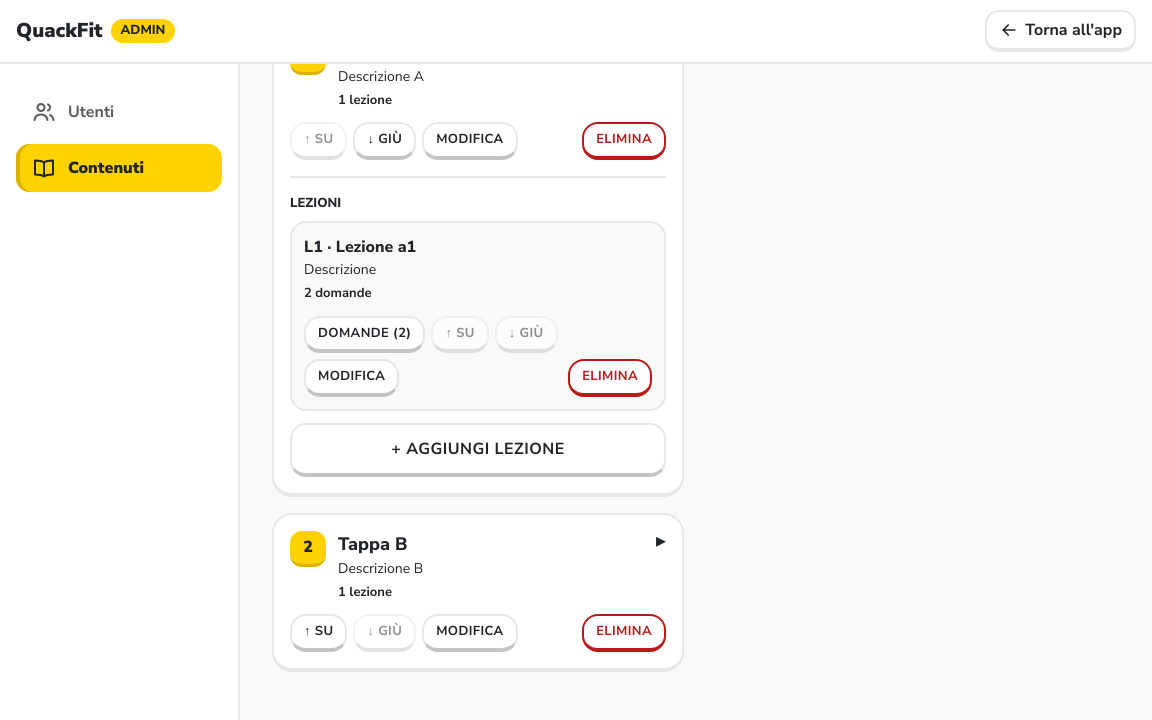
accordion delle tappe › all'avvio è aperta la prima; aprirne un'altra chiude la precedente
(page scrolled)
Expected: the text "L1 · Lezione a1" is shown, [304,236,416,258]
Expected: the text "L1 · Lezione b1" is not shown
Click the button "2 Tappa B Descrizione B 1 lezione ▸" at [308, 549], box [290,531,666,602]
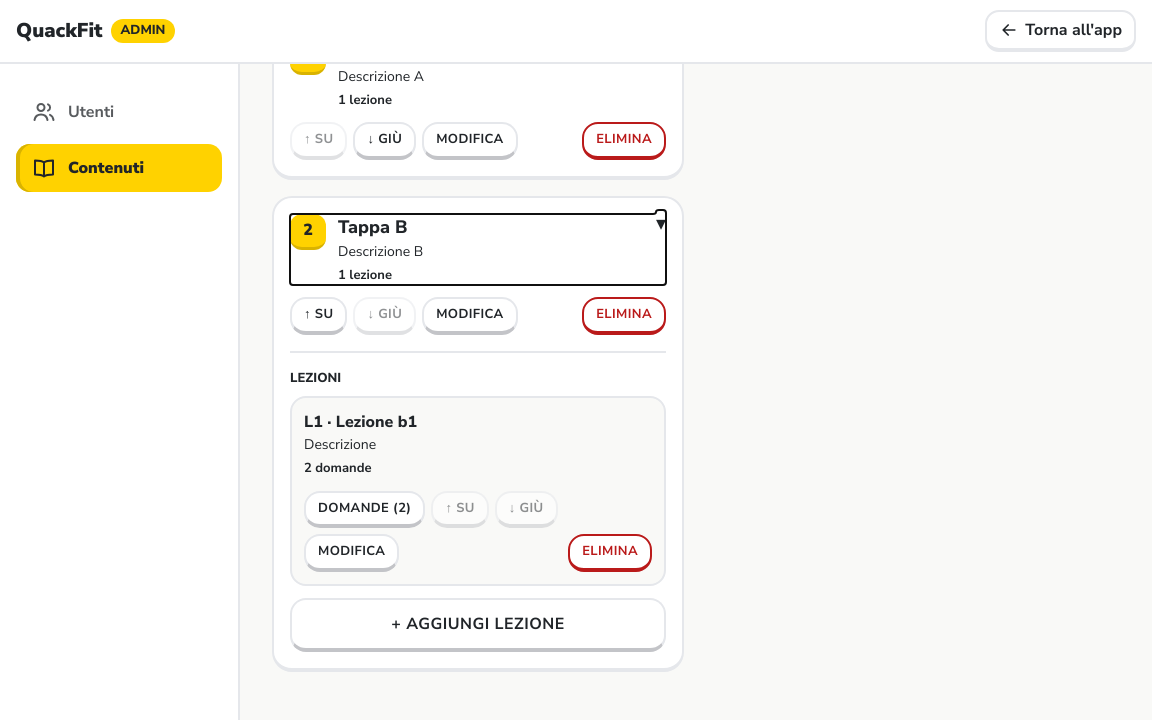
Expected: the button "2 Tappa B Descrizione B 1 lezione ▾" is expanded, [290,214,666,285]
Expected: the text "L1 · Lezione b1" is shown, [304,411,417,433]
Expected: the text "L1 · Lezione a1" is gone
